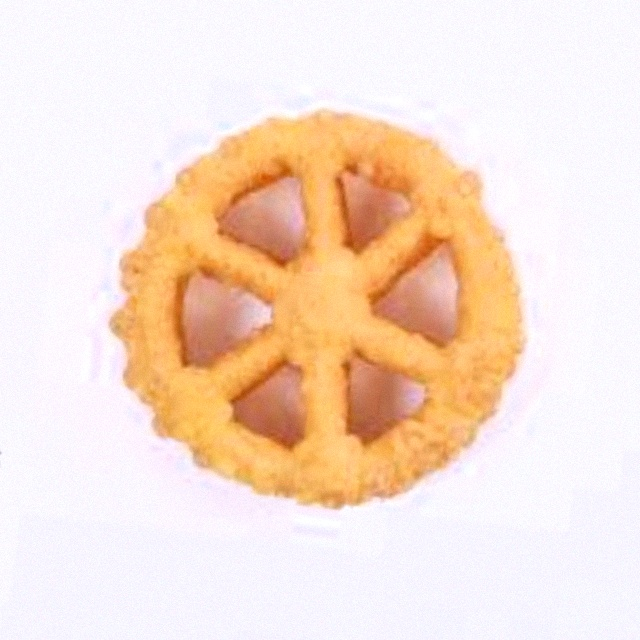Kokis: (85, 126, 555, 514)
